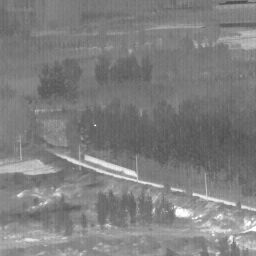aircraft: (94, 124, 96, 126)
